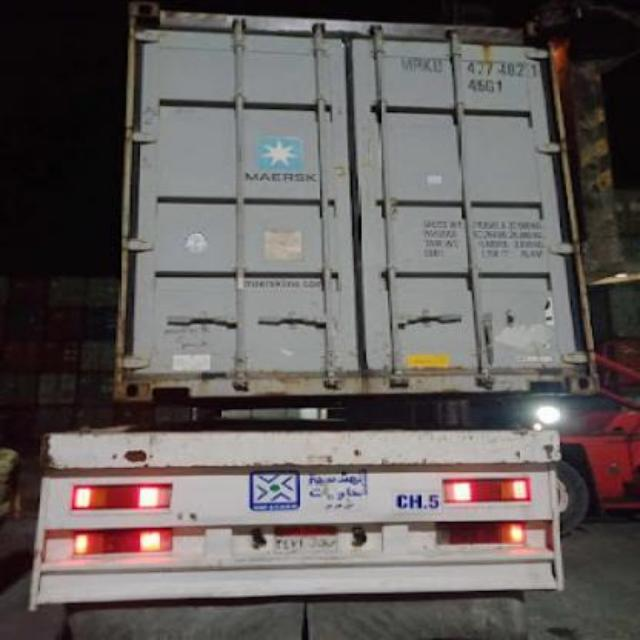1: (530, 58, 540, 78)
2: (516, 58, 528, 78)
4: (462, 55, 476, 75), (498, 56, 508, 76)
7: (476, 49, 486, 76), (484, 52, 496, 74)
8: (506, 52, 516, 82)
K: (422, 52, 432, 72)
M: (400, 52, 412, 72)
R: (412, 48, 422, 74)
U: (432, 54, 446, 74)
